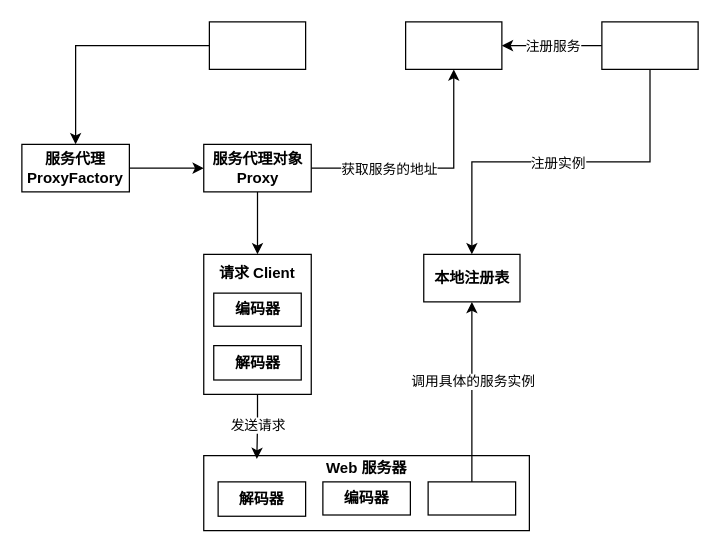
This 720x553 diagram has some shape labels left out. The shapes that lost their labels are listed below. From the top down, each one's centre as x and y in pixels, then its label:
At (x=257, y=45): "服务消费者".
At (x=453, y=45): "注册中心".
At (x=649, y=45): "服务提供者".
At (x=471, y=498): "处理器".
